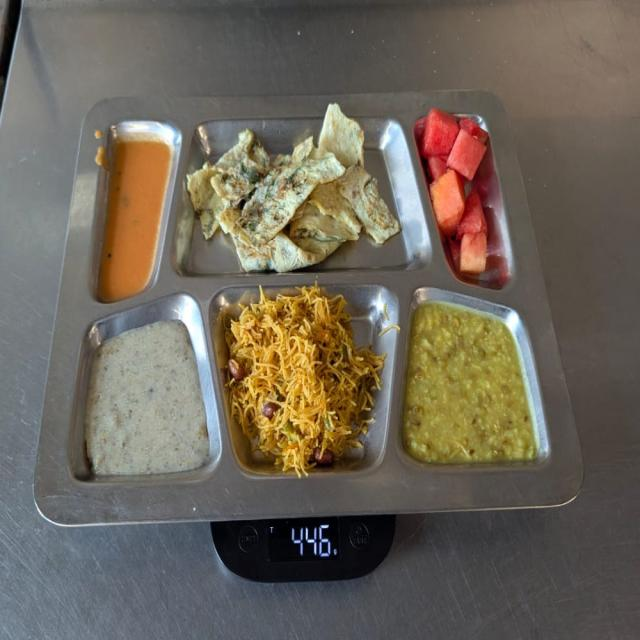Chutney: (90, 124, 172, 308)
Khichdi: (400, 302, 548, 469)
Omelette: (185, 100, 405, 282)
Porridge: (69, 317, 210, 485)
Upma: (224, 282, 390, 482)
Watermelon: (418, 101, 496, 286)
